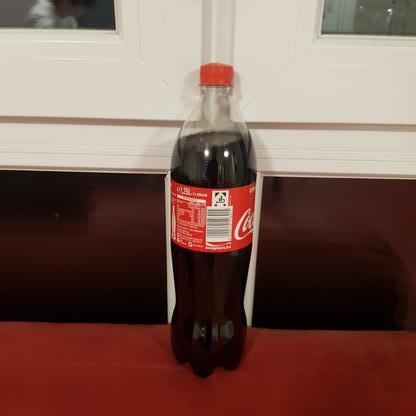coca-cola: (168, 61, 258, 378)
